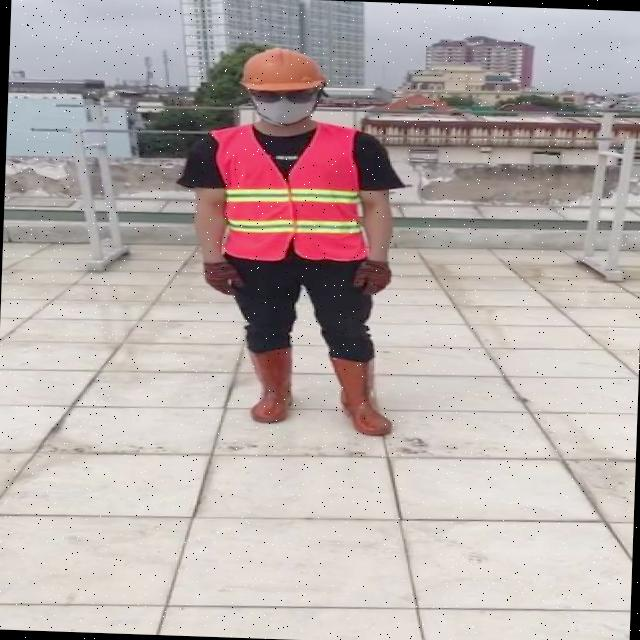boots: (326, 354, 394, 436), (241, 347, 294, 424)
